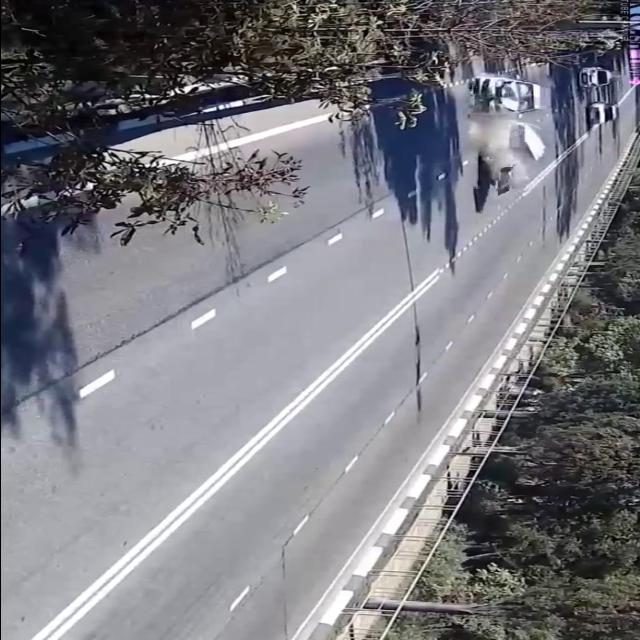accident: (456, 71, 556, 201)
non_accident: (570, 62, 622, 128)
